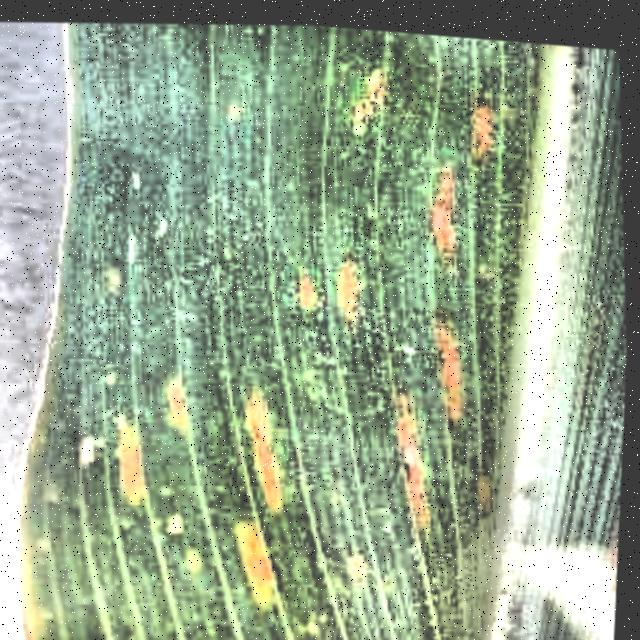gray_spot: (0, 0, 557, 640)
